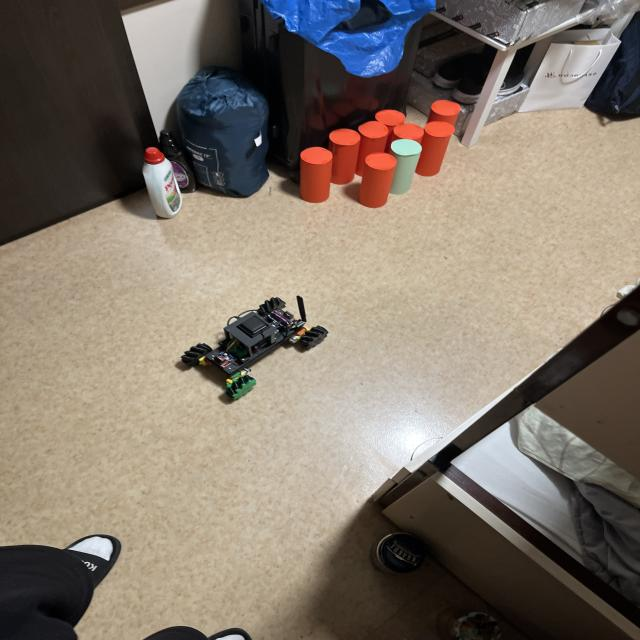robot: (181, 296, 328, 400)
